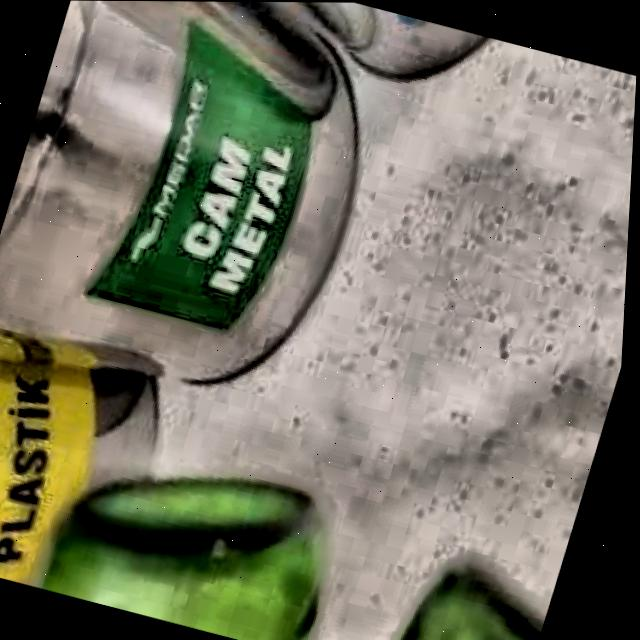glass: (43, 477, 331, 640)
